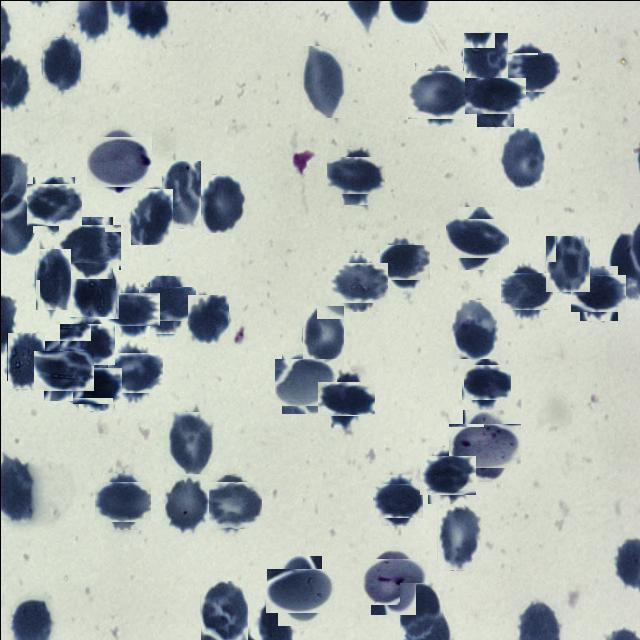red blood cell: (270, 561, 328, 618), (301, 45, 344, 117), (410, 66, 466, 121), (278, 354, 332, 410), (202, 478, 258, 532), (166, 411, 213, 474), (62, 220, 116, 274), (498, 127, 544, 190), (199, 580, 247, 640), (436, 506, 480, 570), (451, 299, 497, 358), (451, 212, 503, 264), (162, 160, 202, 227), (38, 344, 88, 396), (164, 475, 208, 534), (73, 262, 119, 318), (544, 235, 589, 292), (201, 174, 245, 232), (301, 305, 343, 365), (333, 256, 383, 306), (28, 179, 78, 228), (470, 71, 519, 120), (130, 188, 172, 244), (399, 582, 442, 636), (98, 476, 146, 524), (110, 348, 158, 396), (506, 48, 554, 96), (63, 320, 111, 368), (332, 151, 379, 199), (422, 451, 470, 498), (34, 248, 70, 310), (5, 332, 44, 389), (462, 32, 507, 81), (144, 280, 191, 326), (575, 270, 621, 316), (322, 375, 368, 421), (41, 37, 80, 90), (187, 294, 228, 344), (504, 268, 548, 314), (110, 286, 154, 331), (382, 240, 426, 284), (74, 363, 118, 406), (376, 478, 418, 520), (464, 360, 506, 402)
ring: (89, 132, 147, 190), (456, 416, 514, 474), (365, 552, 421, 608)
